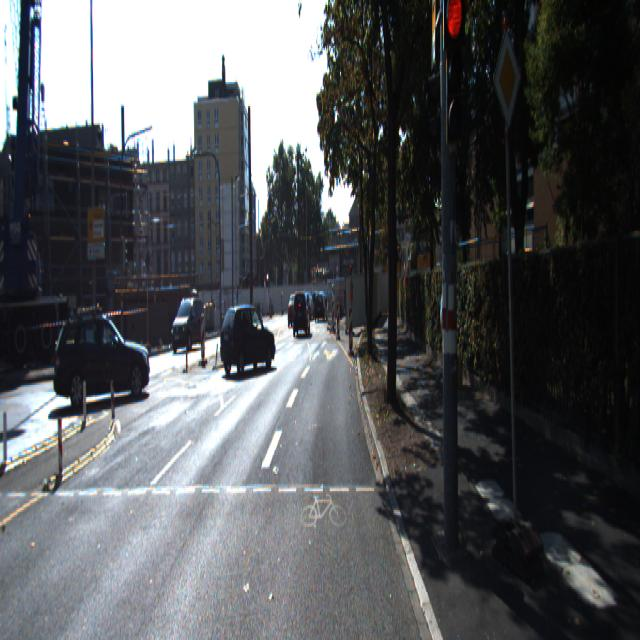Car: (55, 305, 152, 406), (217, 299, 276, 376), (170, 293, 205, 350), (292, 285, 310, 333), (288, 292, 302, 326)
DontCare: (314, 286, 336, 320)
